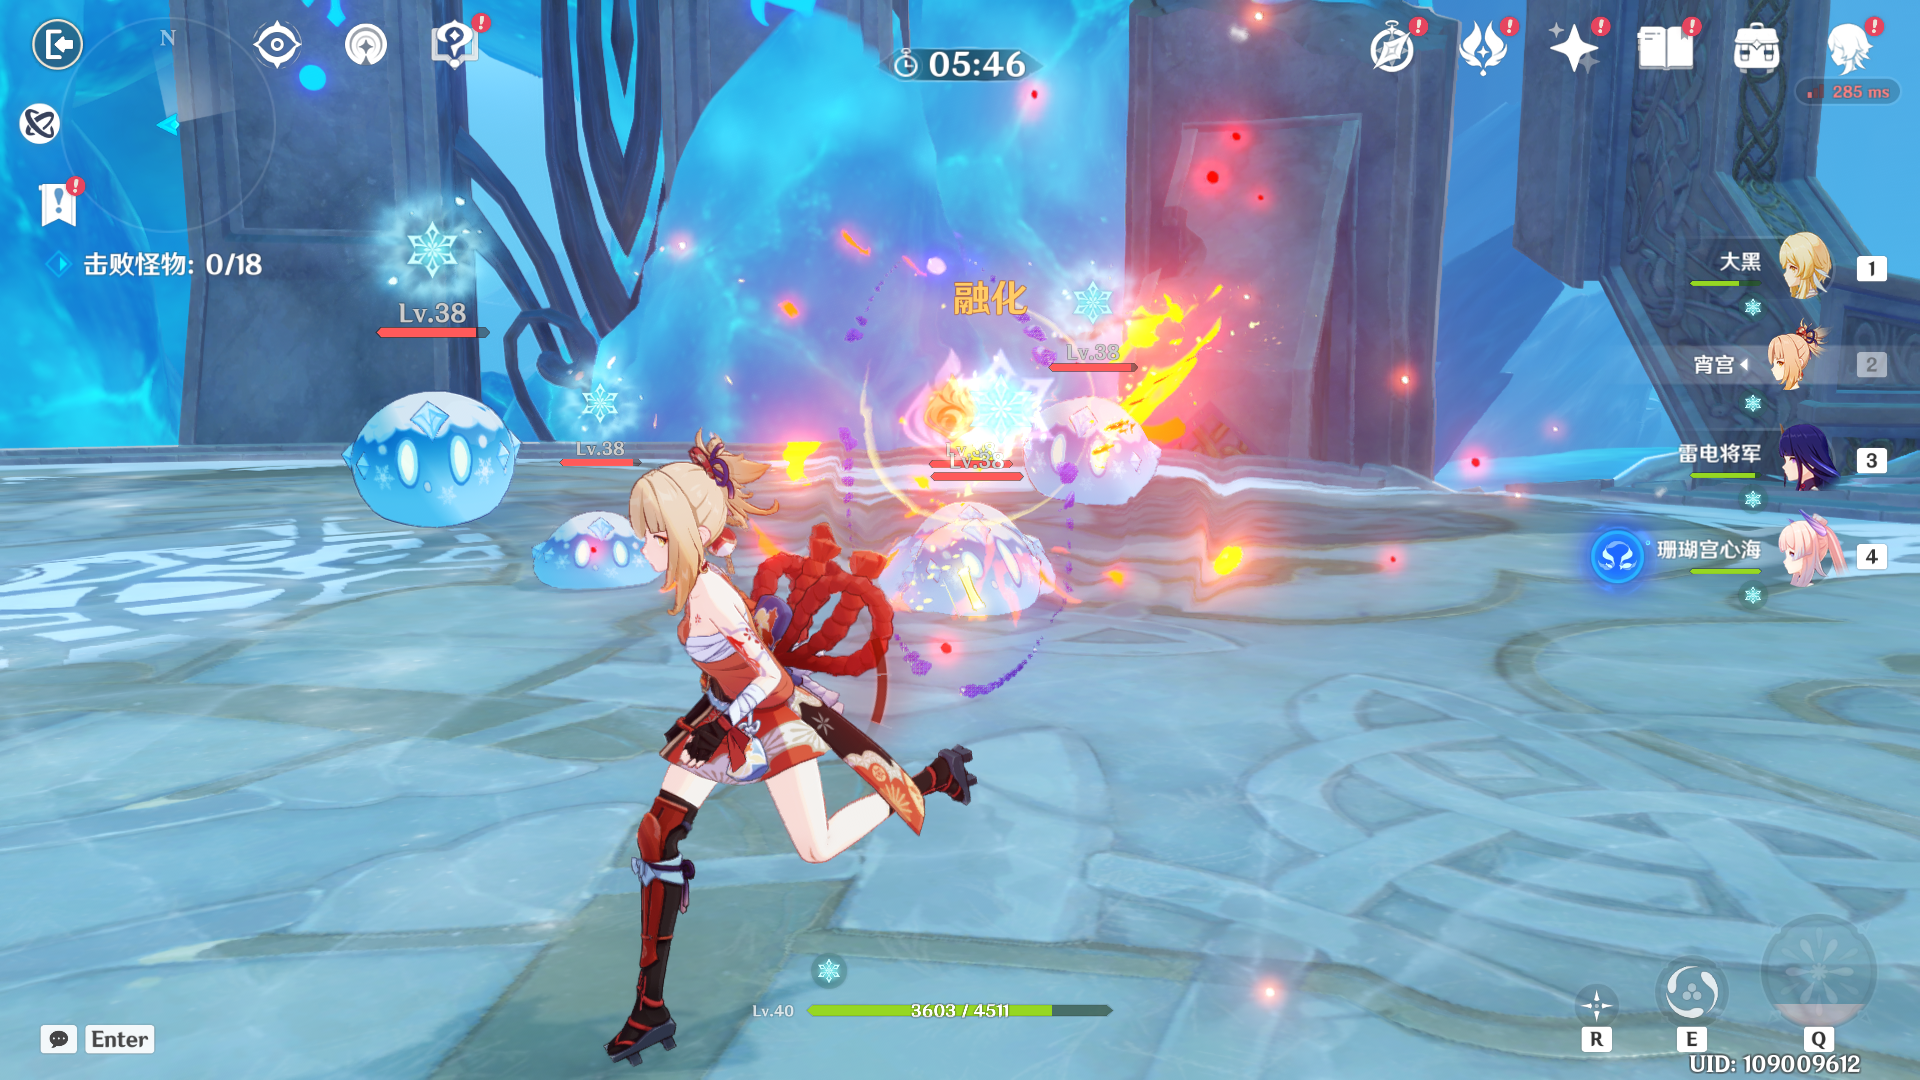character: (575, 427, 1029, 1075)
slime: (323, 384, 530, 541), (996, 371, 1183, 537), (884, 489, 1075, 637), (516, 498, 666, 599)
